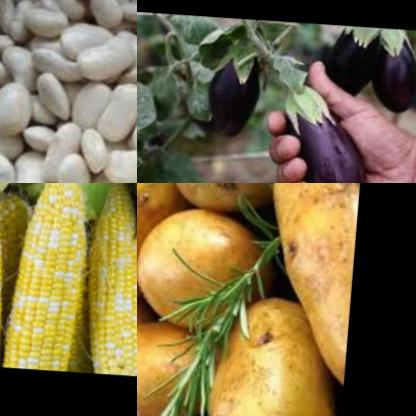beans: (0, 0, 137, 183)
corn: (8, 183, 92, 368), (83, 183, 137, 373)
eggplant: (273, 76, 375, 183), (199, 35, 287, 144), (317, 20, 416, 109)
potato: (257, 183, 363, 368), (207, 273, 330, 416), (137, 203, 265, 333), (137, 318, 230, 416), (137, 183, 189, 308), (170, 183, 307, 218)
